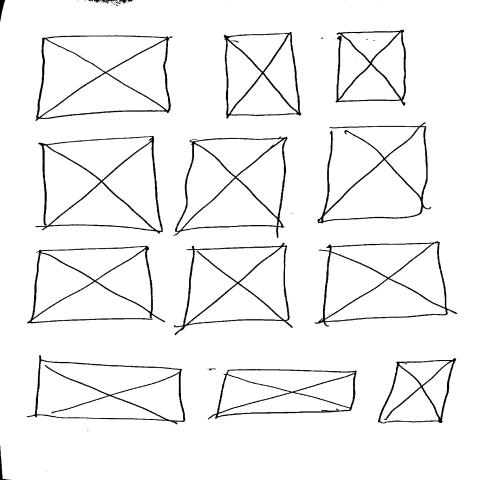Image: (34, 35, 174, 123), (40, 137, 164, 236), (172, 137, 290, 235), (317, 126, 430, 225), (322, 241, 450, 327), (28, 245, 157, 326), (33, 358, 188, 425), (180, 244, 291, 329), (213, 368, 360, 421), (225, 32, 302, 120), (334, 30, 411, 105), (375, 359, 456, 426)
